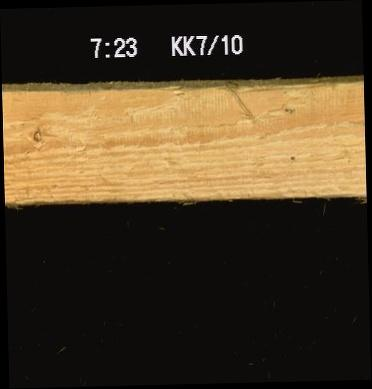small_knot: (28, 126, 43, 143)
